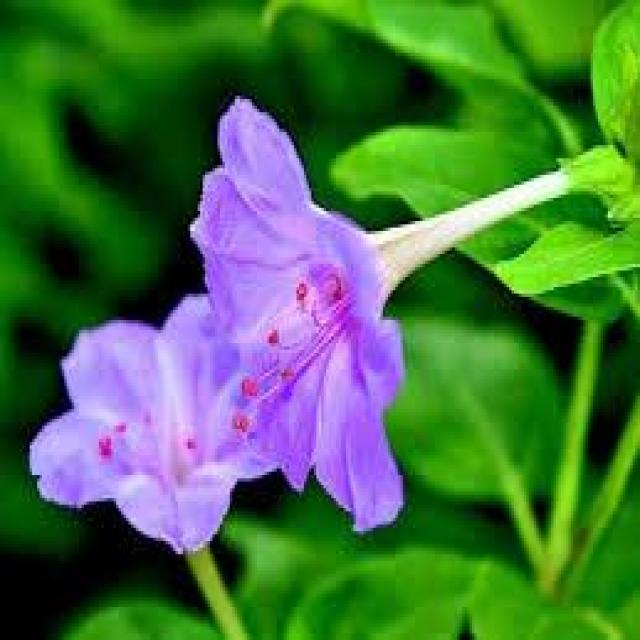organic waste: (183, 86, 610, 521), (27, 286, 326, 562)
